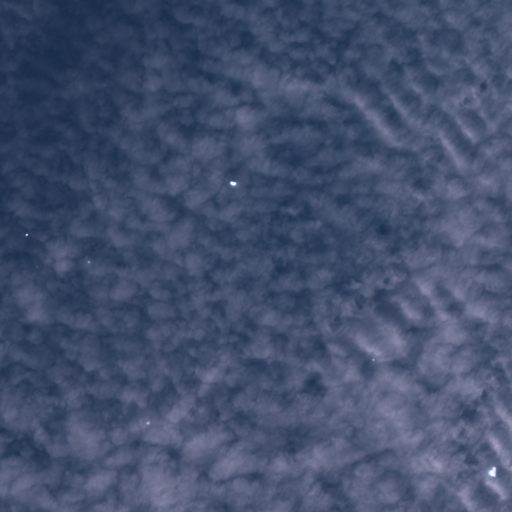Iceberg: (488, 466, 496, 476), (229, 181, 236, 186), (25, 233, 28, 236), (87, 260, 90, 263), (372, 358, 374, 361), (146, 422, 149, 424)
